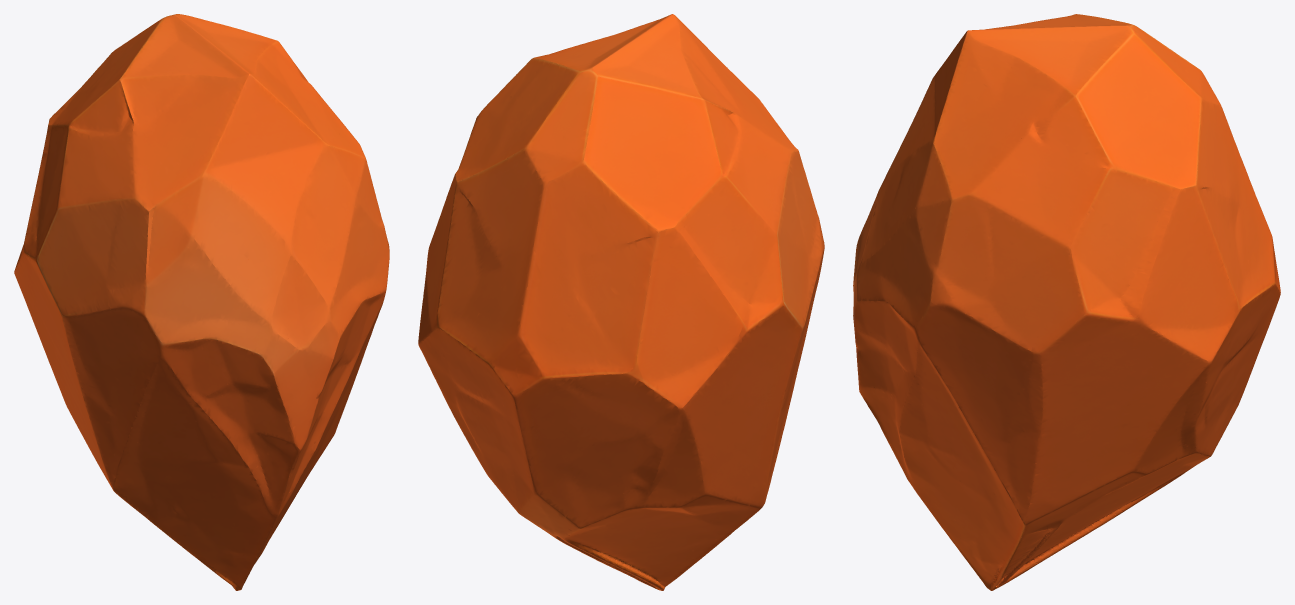
The model's file is base_basic_pbr.fbx.
3 renders of one model, left to right at view 1: azimuth 30°, elevation 25°; view 2: azimuth 150°, elevation 25°; view 3: azimuth 270°, elevation 25°, orthographic. The views are drawn at different scales.
Visible parts, largest first — view 1: model; view 2: model; view 3: model.
Part boxes in pixels (x1,y1,x2,y2): model: (14, 14, 389, 590); model: (418, 14, 824, 590); model: (853, 14, 1280, 590).
Bounding box in the file's own units: 119 × 190 × 131.
Materials: 1 (1 with a texture image).
